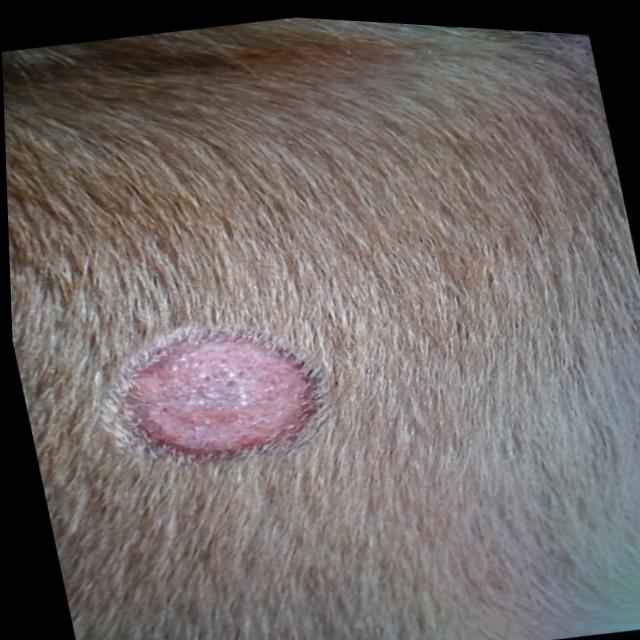ringworm: (86, 305, 346, 479)
